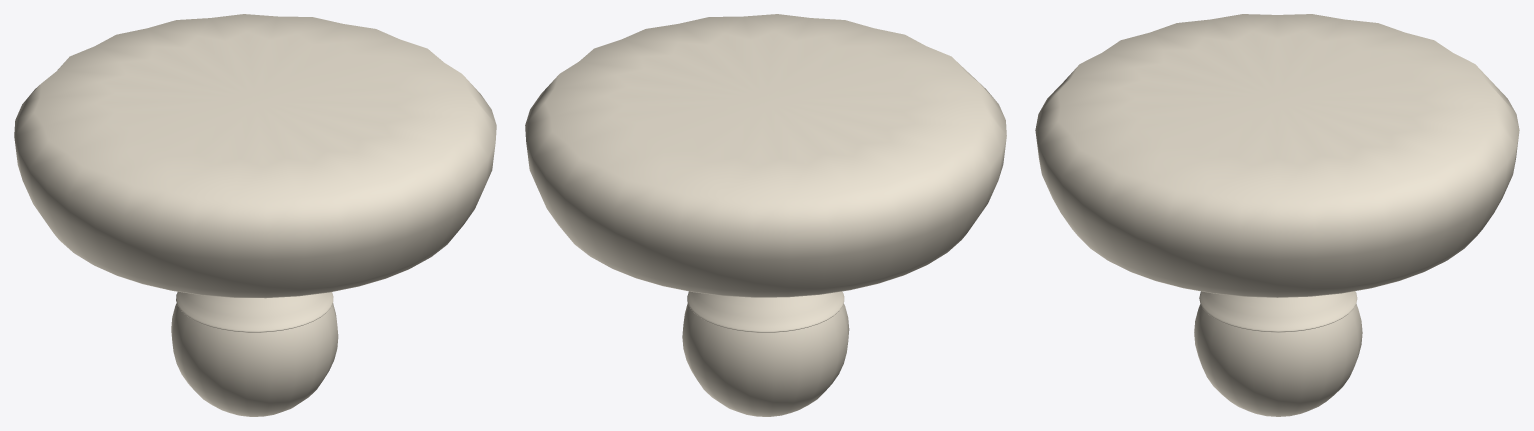
The model's file is Lampada_Bocal_MESH.fbx.
The picture shows the model from 3 angles, left to right: view 1: azimuth 30°, elevation 25°; view 2: azimuth 150°, elevation 25°; view 3: azimuth 270°, elevation 25°; orthographic projection.
Parts seen in each view (by area): view 1: Bocal, Lamp, Base_Lamp; view 2: Bocal, Lamp, Base_Lamp; view 3: Bocal, Lamp, Base_Lamp.
Boxes of the visible parts, x1,y1,x2,y2 form: Bocal: (14, 14, 496, 298); Lamp: (171, 303, 338, 416); Base_Lamp: (176, 291, 333, 332); Bocal: (525, 14, 1006, 297); Lamp: (682, 303, 849, 416); Base_Lamp: (687, 291, 844, 332); Bocal: (1035, 14, 1519, 297); Lamp: (1194, 304, 1362, 416); Base_Lamp: (1199, 291, 1357, 332).
Bounding box in the file's own units: 1.63 × 1.16 × 1.63.
